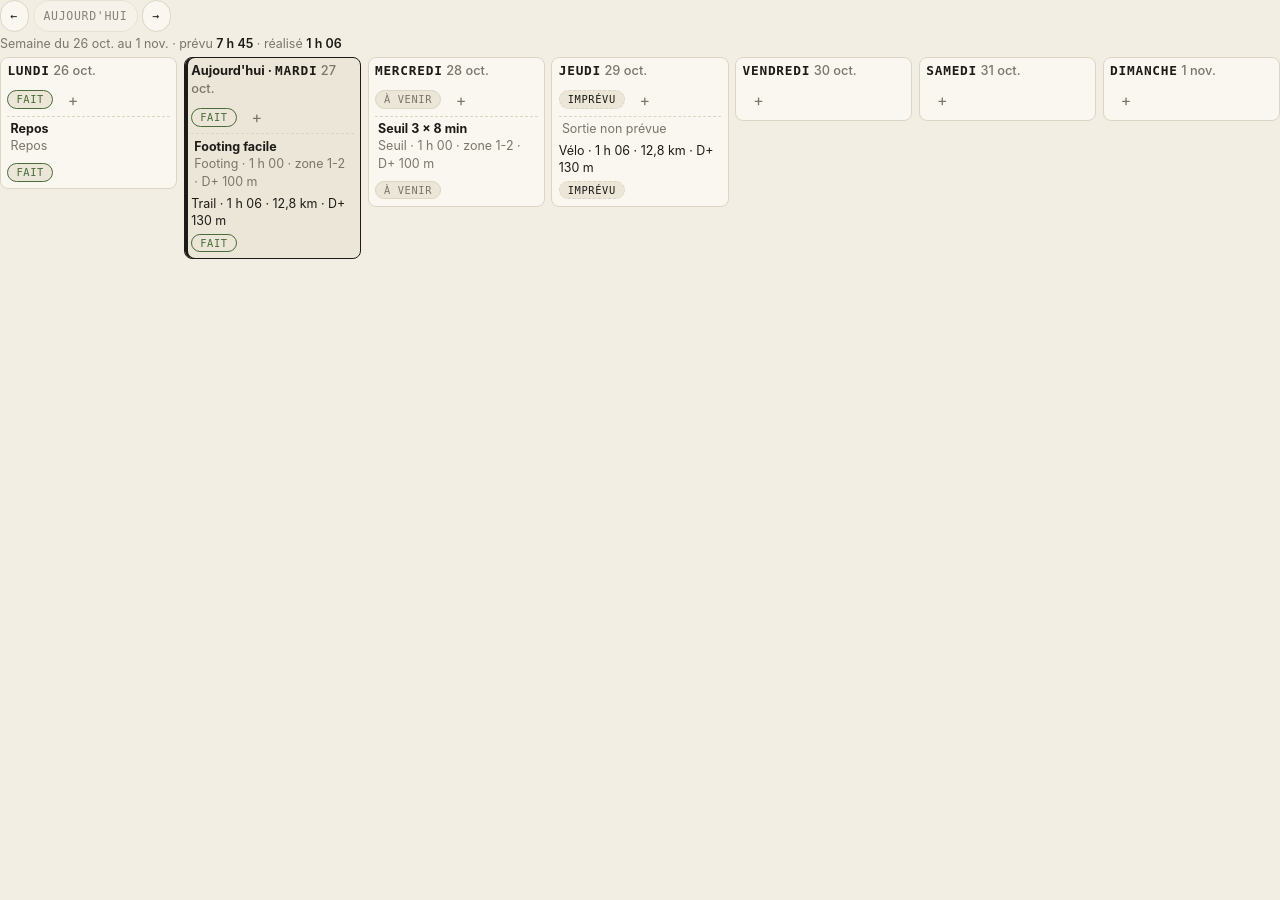
Scenario: Programme de la semaine › crée une séance sur un jour et affiche l'erreur de l'API
The image size is (1280, 900).
Click the button named "Ajouter une séance le vendredi" at (758, 100), box [742, 84, 774, 116]
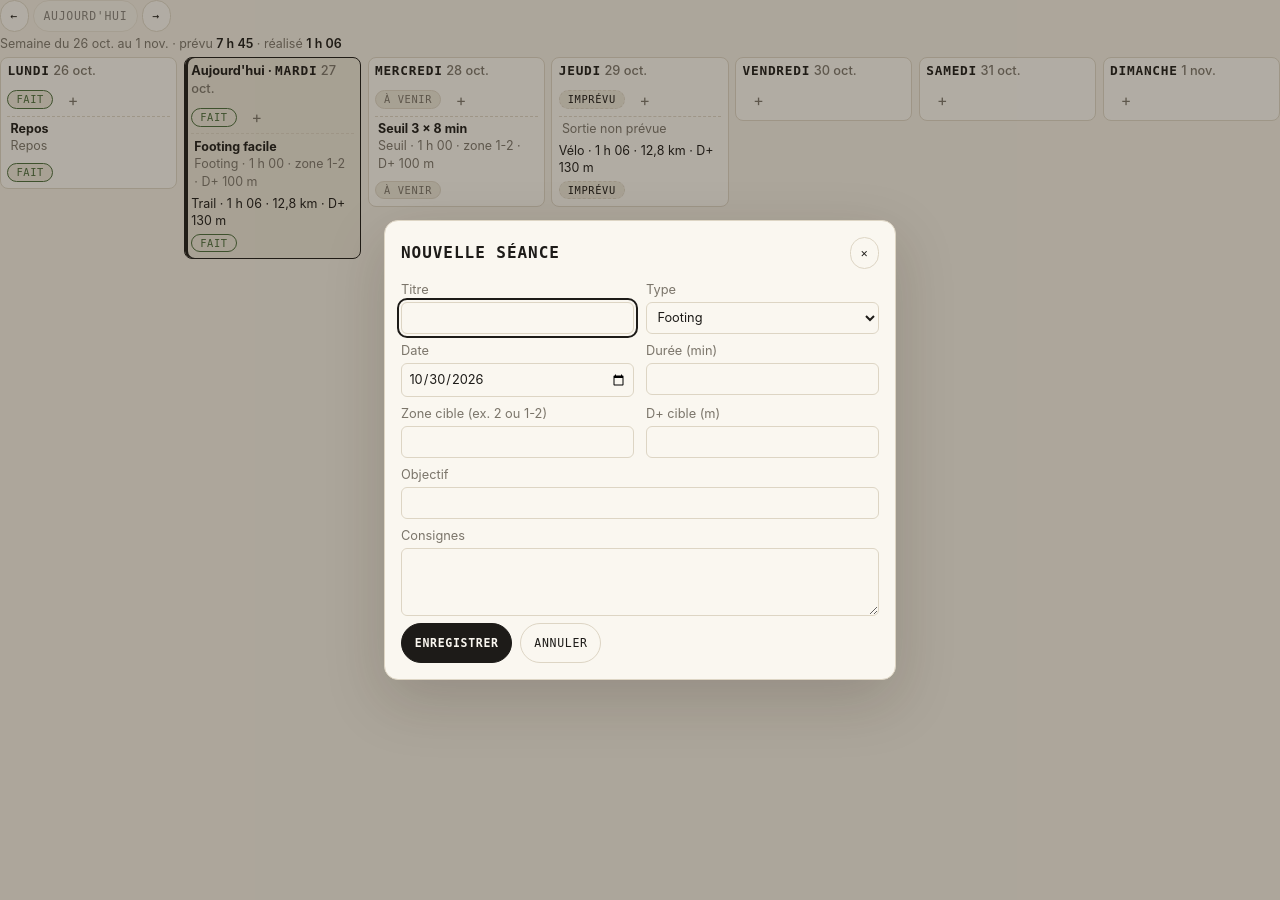
Expected: the date field labelled "Date" holds "2026-10-30", [401, 363, 634, 397]
Type "Footing" into the field labelled "Titre" at (518, 318), box [401, 302, 634, 334]
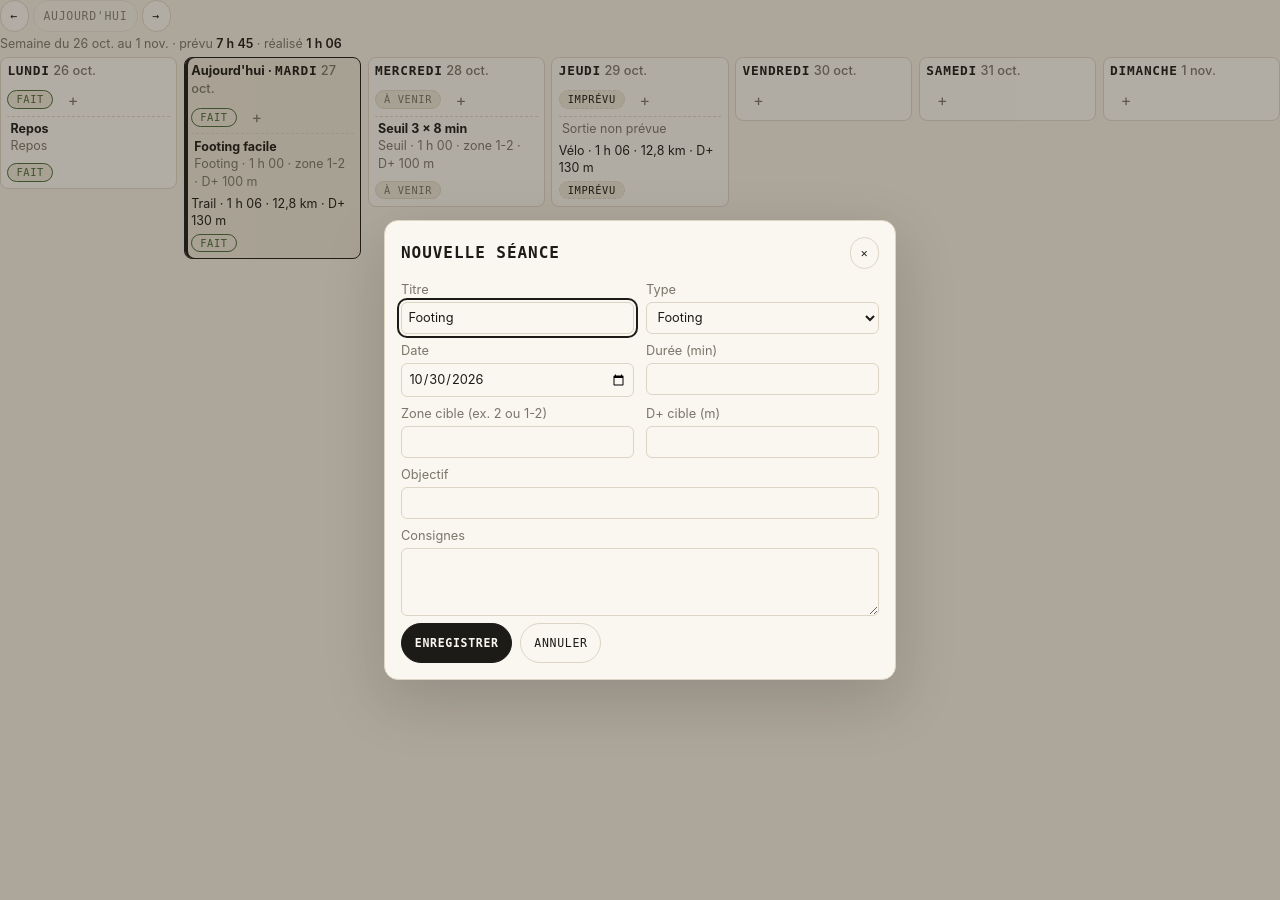
Click the button "Enregistrer" at (457, 643), box [401, 623, 512, 663]
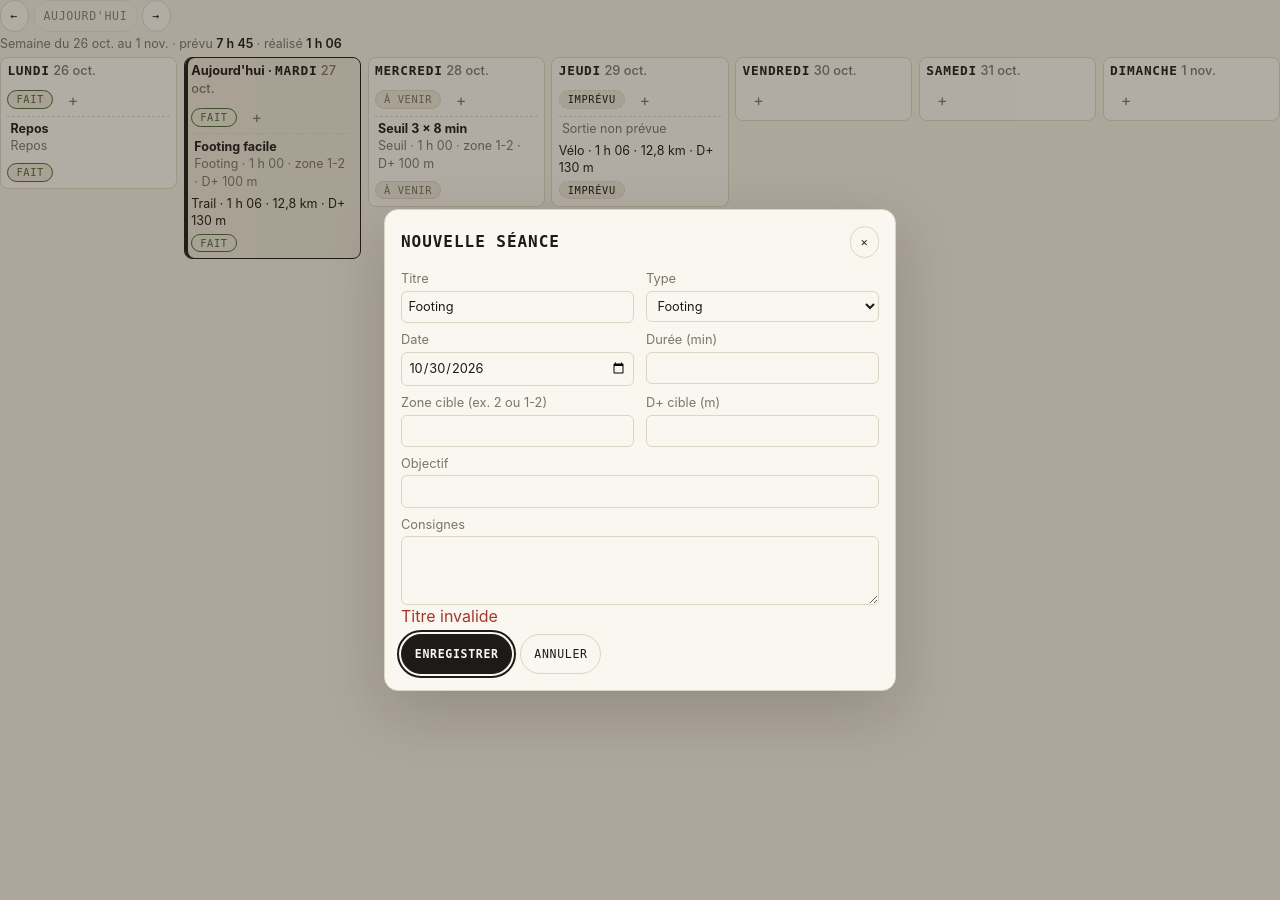
Expected: the message reads "Titre invalide", [401, 606, 498, 626]
Click the button "Annuler" at (561, 654), box [520, 634, 602, 674]
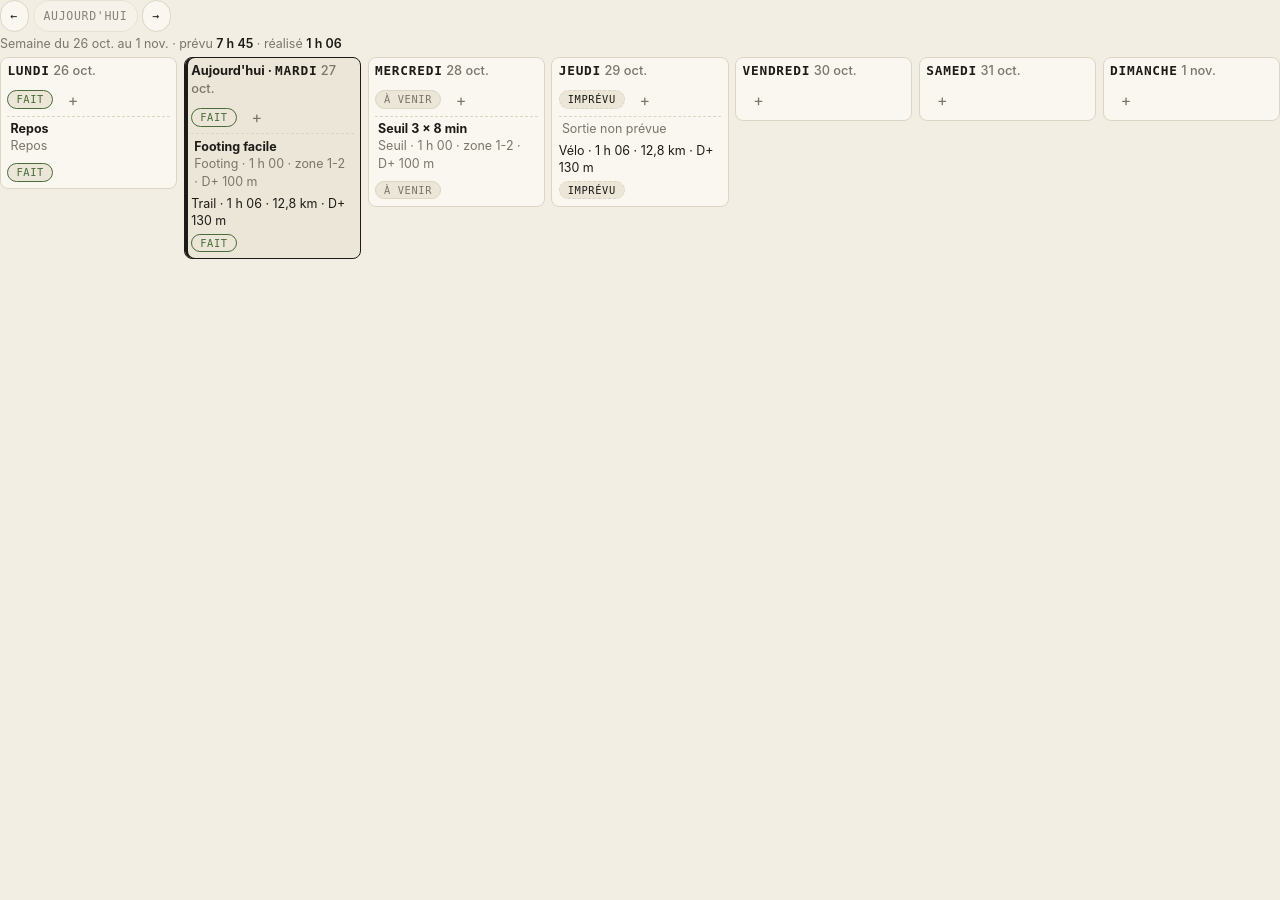
Expected: the dialog is gone
